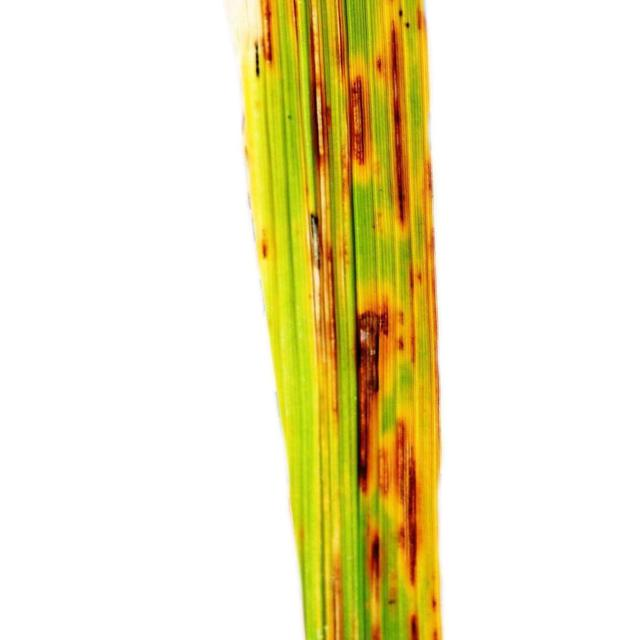Narrow brown: (222, 0, 536, 640)
